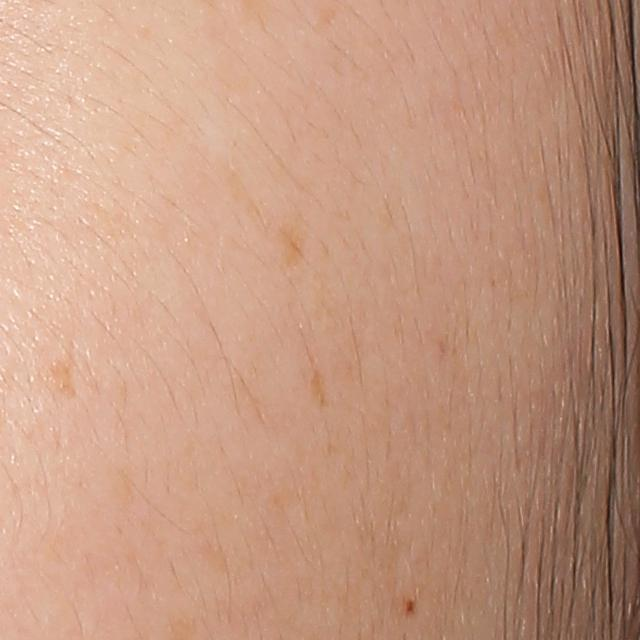melasma: (274, 217, 308, 274)
nevus: (404, 596, 414, 623)
